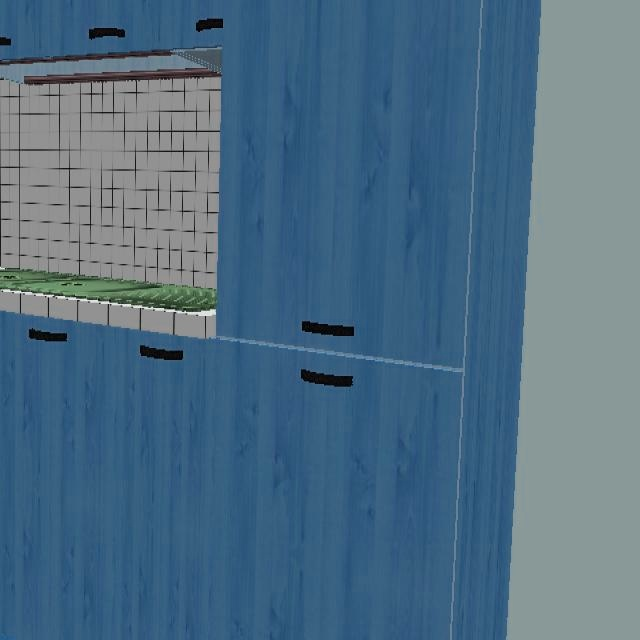countertop: (0, 293, 213, 336)
sink: (0, 267, 216, 313)
